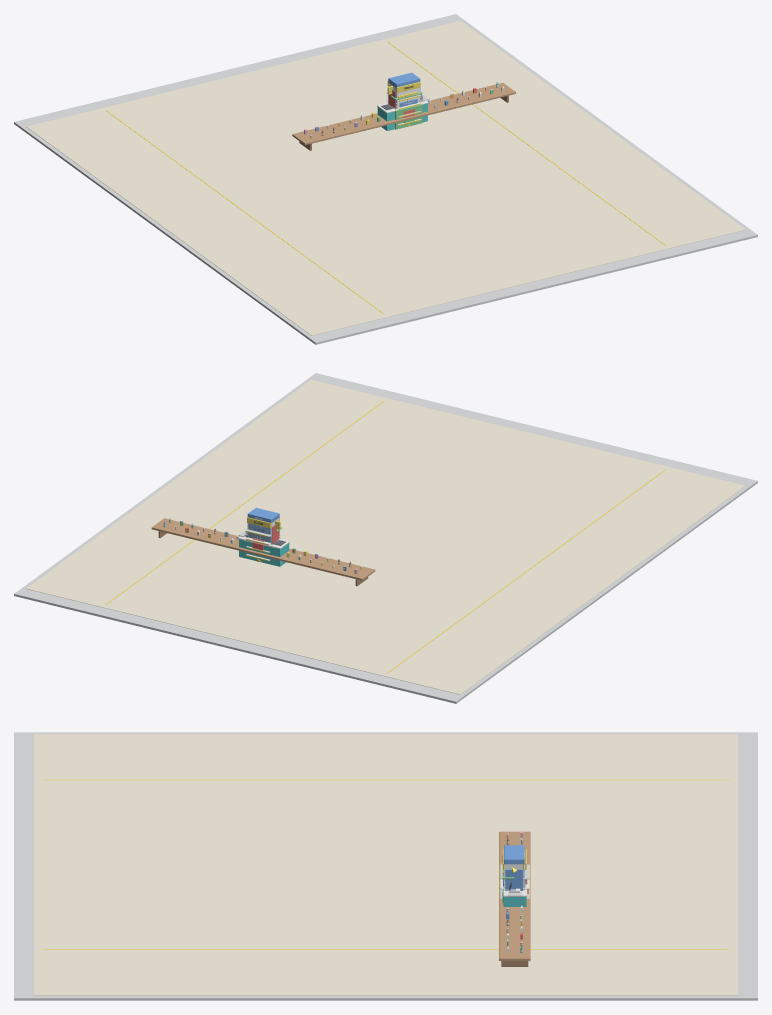
The model's file is cartoon_supermarket.glb.
The picture shows the model from 3 angles, top to bottom: view 1: azimuth 30°, elevation 25°; view 2: azimuth 150°, elevation 25°; view 3: azimuth 270°, elevation 25°; orthographic projection. The views are drawn at different scales.
Parts seen in each view (by area): view 1: Suelo_faja, Suelo, Mesa_Productos | Mesa productos; view 2: Suelo_faja, Suelo, Mesa_Productos | Mesa productos, Caja_01 | Mostrador; view 3: Suelo_faja, Suelo, Mesa_Productos | Mesa productos, Linea pasillo, Linea pasillo.001.
Part boxes in pixels (x1,y1,x2,y2): Suelo_faja: (26, 20, 745, 335); Suelo: (14, 14, 757, 344); Mesa_Productos | Mesa productos: (292, 83, 515, 145); Suelo_faja: (26, 379, 745, 694); Suelo: (14, 373, 757, 703); Mesa_Productos | Mesa productos: (151, 518, 375, 580); Caja_01 | Mostrador: (239, 539, 289, 566); Suelo_faja: (34, 734, 737, 995); Suelo: (14, 732, 757, 1000); Mesa_Productos | Mesa productos: (499, 831, 530, 960); Linea pasillo: (43, 779, 728, 780); Linea pasillo.001: (42, 949, 729, 949).
Bounding box in the file's own units: 22 × 2.23 × 26.
